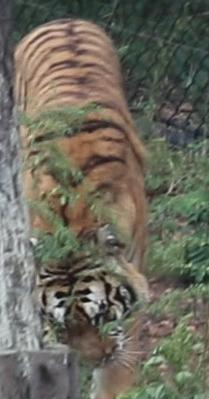tiger: (14, 19, 149, 398)
